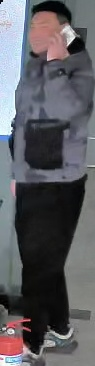phone: (9, 1, 83, 91)
